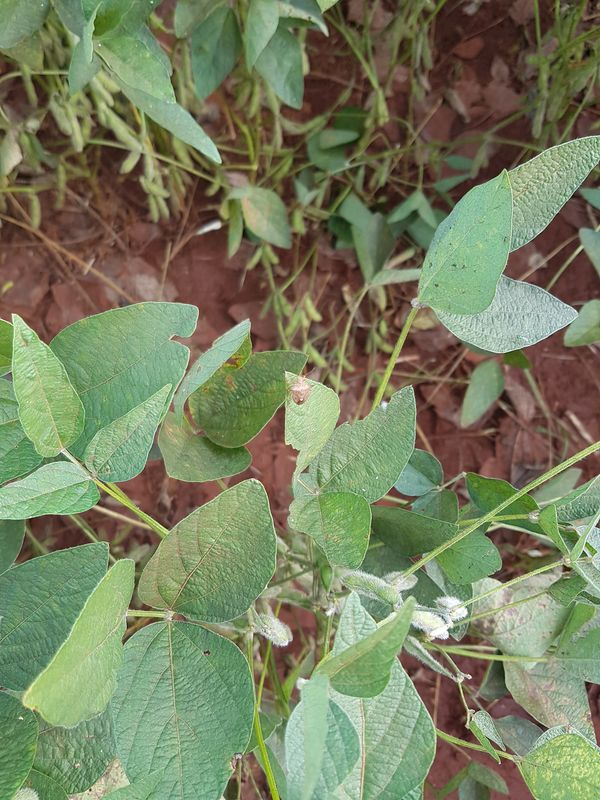Euschistus_heros_adulto: (281, 369, 319, 412)
